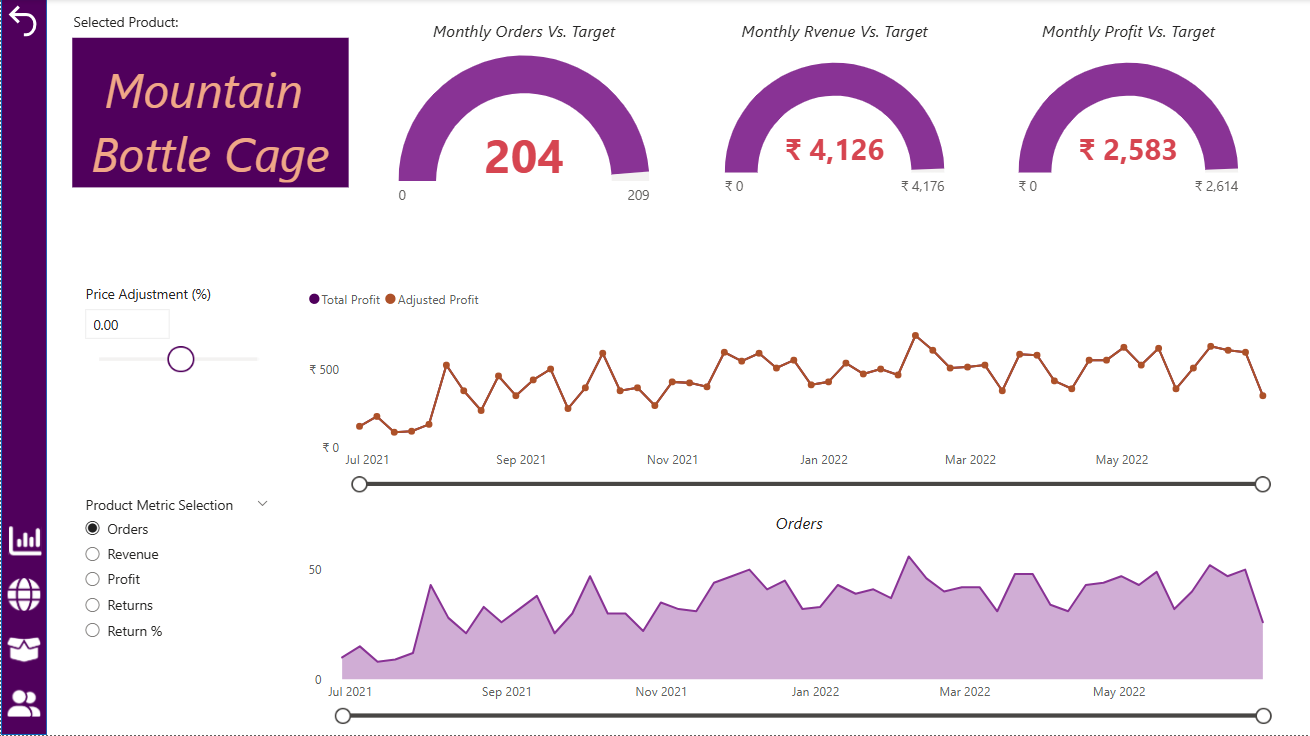

Layout of this report page (visuals, bound fields, positions):
{"tool":"powerbi","page":{"name":"Product Detail","canvas":[1280,720],"ordinal":2},"visuals":[{"type":"shape","box":[0,0,45,720],"z":0},{"type":"card","fields":{"Values":["Min(Product Lookup.ProductName)"]},"box":[69.6,38.5,270.2,146.7],"z":1000,"group":"g1"},{"type":"actionButton","box":[4.2,509.9,45.2,40.4],"z":1000},{"type":"gauge","title":"Monthly Orders Vs. Target","fields":{"Y":["Measure Table.Total Orders"],"MaxValue":["Measure Table.Order Target"]},"box":[384,19.6,255.6,200.5],"z":2000},{"type":"actionButton","box":[2.4,616.3,45.2,40.4],"z":3000},{"type":"gauge","title":"Monthly Rvenue Vs. Target","fields":{"Y":["Measure Table.Total Revenue"],"MaxValue":["Measure Table.Revenue Target"]},"box":[702.5,19.6,225,199.3],"z":4000},{"type":"actionButton","box":[2.4,668.9,45.2,40.4],"z":5000},{"type":"gauge","title":"Monthly Profit Vs. Target","fields":{"Y":["Measure Table.Total Profit"],"MaxValue":["Measure Table.Profit Target"]},"box":[990.5,19.6,225,199.3],"z":6000},{"type":"textbox","box":[66,8.6,299.6,31.8],"z":6002,"group":"g1"},{"type":"actionButton","box":[2.4,562.5,45.2,40.4],"z":7000},{"type":"lineChart","title":"Profit Trending","fields":{"Category":["Calendar Lookup.Date Hierarchy.Start of Year","Calendar Lookup.Date Hierarchy.Start of Month","Calendar Lookup.Date Hierarchy.Start of Week","Calendar Lookup.Date Hierarchy.Date"],"Y":["Measure Table.Total Profit","Measure Table.Adjusted Profit"]},"box":[295.9,273.9,969.7,211.6],"z":8000},{"type":"areaChart","fields":{"Y":["Measure Table.Total Orders"],"Category":["Calendar Lookup.Date Hierarchy.Start of Year","Calendar Lookup.Date Hierarchy.Start of Month","Calendar Lookup.Date Hierarchy.Start of Week","Calendar Lookup.Date Hierarchy.Date"]},"box":[295.9,501.4,969.7,210.3],"z":9000},{"type":"group","id":"g1","title":"Group 1","box":[66,8.6,299.6,176.6],"z":10000},{"type":"actionButton","box":[1.2,1.2,45.2,40.4],"z":11000},{"type":"slicer","fields":{"Values":["Price Adjustment (%).Price Adjustment (%)"]},"box":[69.7,273.9,204.2,156.5],"z":12000},{"type":"slicer","fields":{"Values":["Parameter.Parameter"]},"box":[69.7,480.6,204.2,188.3],"z":13000}]}

Visuals, with their boxes on the page's 1280x720 design canvas (x1, y1, x2, y2). These are canvas units, not pixel positions in the 1310x736 screenshot, which may show the page scaled, cropped or inside an application window:
shape: {"x1": 0, "y1": 0, "x2": 45, "y2": 720}
card - Min(Product Lookup.ProductName): {"x1": 70, "y1": 38, "x2": 340, "y2": 185}
actionButton: {"x1": 4, "y1": 510, "x2": 49, "y2": 550}
"Monthly Orders Vs. Target" gauge: {"x1": 384, "y1": 20, "x2": 640, "y2": 220}
actionButton: {"x1": 2, "y1": 616, "x2": 48, "y2": 657}
"Monthly Rvenue Vs. Target" gauge: {"x1": 702, "y1": 20, "x2": 928, "y2": 219}
actionButton: {"x1": 2, "y1": 669, "x2": 48, "y2": 709}
"Monthly Profit Vs. Target" gauge: {"x1": 990, "y1": 20, "x2": 1216, "y2": 219}
textbox: {"x1": 66, "y1": 9, "x2": 366, "y2": 40}
actionButton: {"x1": 2, "y1": 562, "x2": 48, "y2": 603}
"Profit Trending" lineChart: {"x1": 296, "y1": 274, "x2": 1266, "y2": 486}
areaChart - Measure Table.Total Orders x Calendar Lookup.Date Hierarchy.Start of Year: {"x1": 296, "y1": 501, "x2": 1266, "y2": 712}
"Group 1" group: {"x1": 66, "y1": 9, "x2": 366, "y2": 185}
actionButton: {"x1": 1, "y1": 1, "x2": 46, "y2": 42}
slicer - Price Adjustment (%).Price Adjustment (%): {"x1": 70, "y1": 274, "x2": 274, "y2": 430}
slicer - Parameter.Parameter: {"x1": 70, "y1": 481, "x2": 274, "y2": 669}
